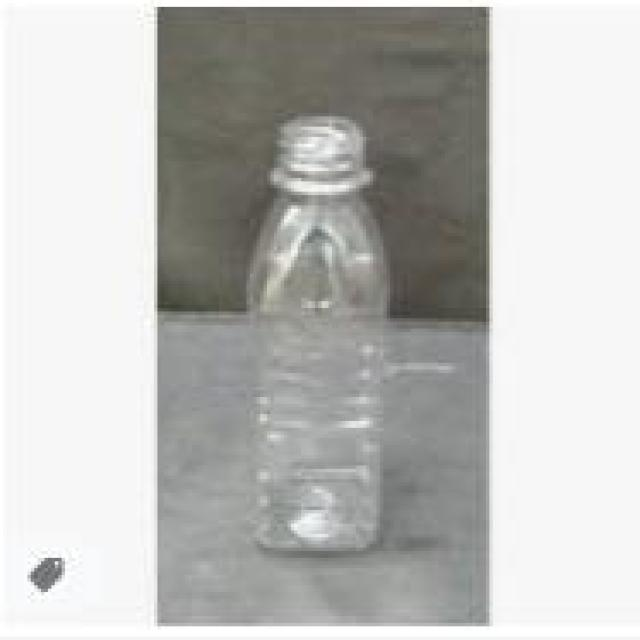bottle: (243, 113, 394, 565)
